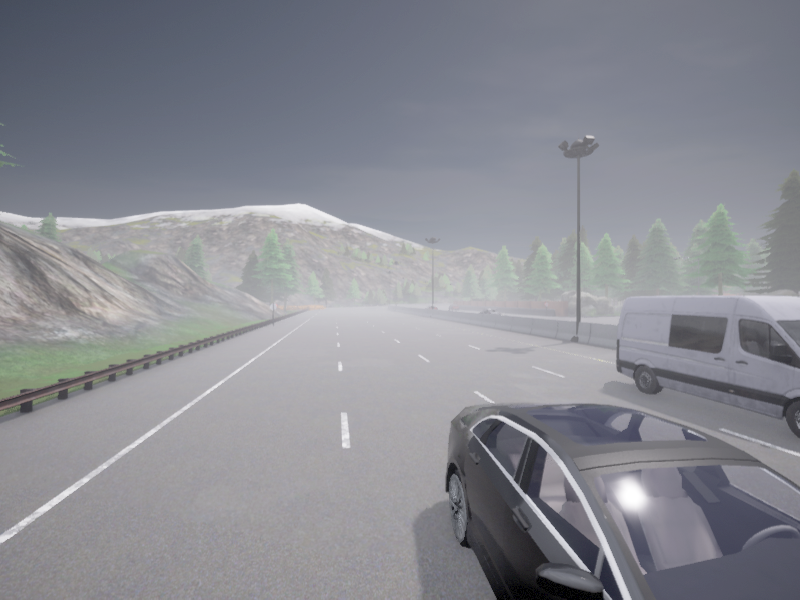vehicle: (445, 402, 799, 599), (616, 295, 799, 437), (479, 308, 500, 314), (448, 305, 458, 310), (425, 305, 436, 309)
